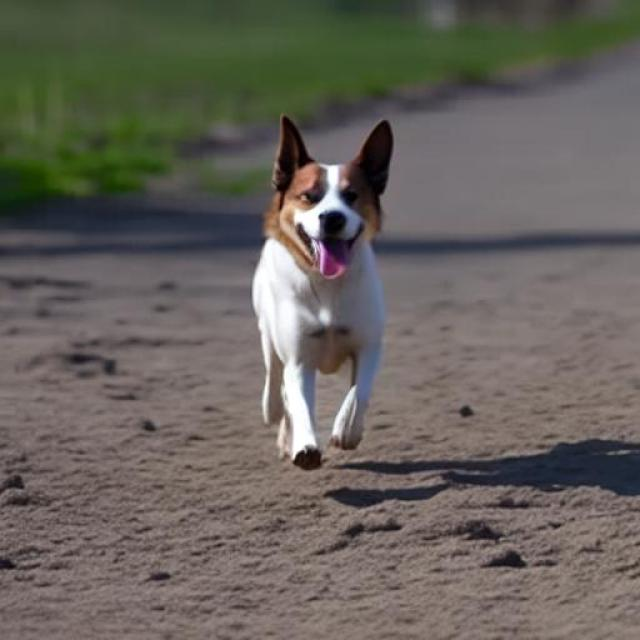Dog: (252, 114, 394, 468)
